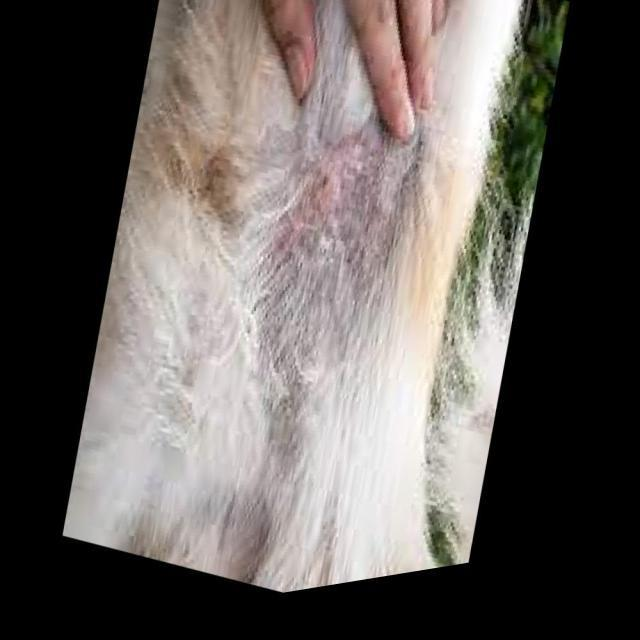allergic dermatitis: (239, 125, 415, 292)
